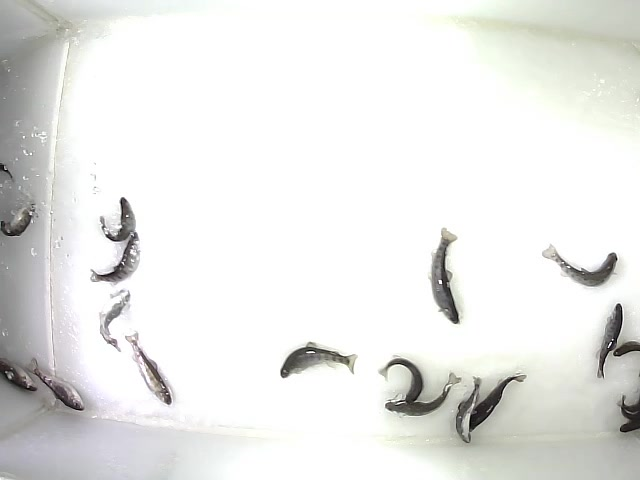fish: (123, 329, 173, 407), (541, 242, 619, 291), (466, 372, 528, 431), (386, 371, 463, 417), (427, 227, 462, 325), (25, 357, 86, 413), (279, 340, 360, 380), (89, 231, 143, 288), (593, 302, 624, 381), (377, 353, 423, 405), (98, 288, 133, 355), (455, 375, 483, 444), (99, 195, 137, 243), (1, 355, 39, 393), (1, 200, 37, 238)
